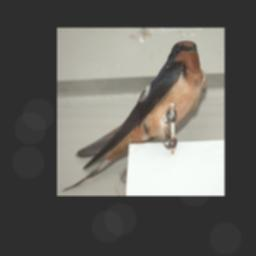Swallow: (60, 39, 202, 188)
